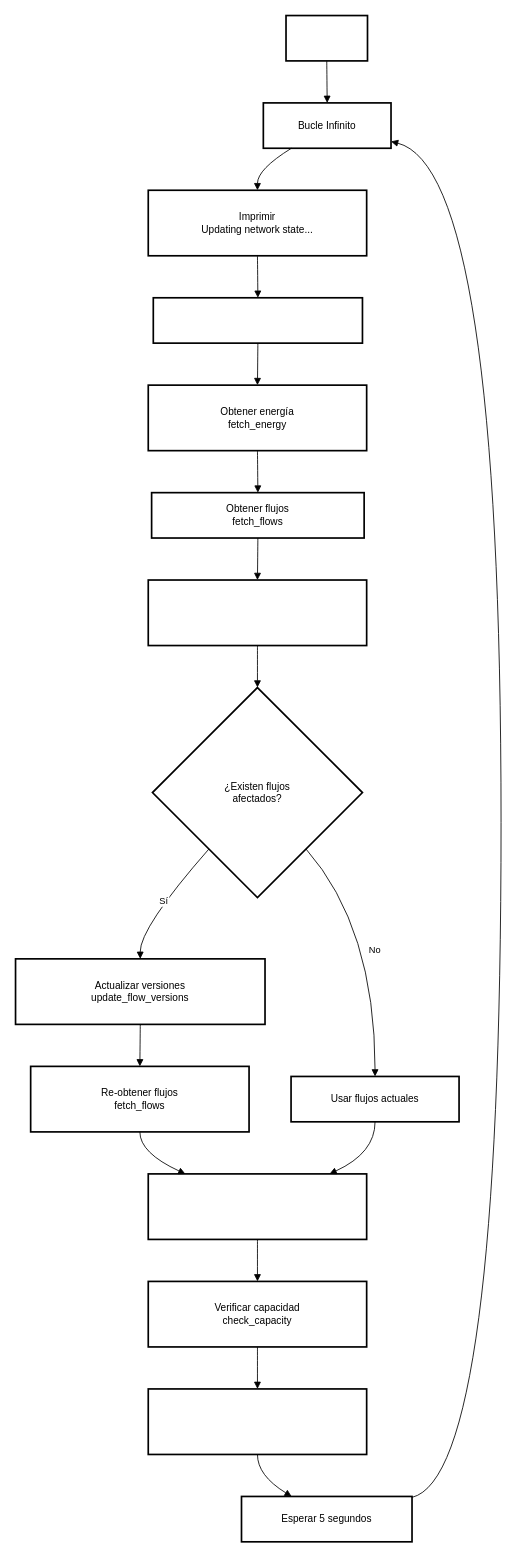
This 516x1557 diagram has some shape labels left out. Each missing label, with the centre of its shape:
"Asignar costos assign_costs" goes at point 257,1206.
"Asignar rutas assign_routes" goes at point 257,1421.
"Crear grafo create_graph" goes at point 257,320.
"Inicio" goes at point 326,37.
"Verificar routers críticos - router_checkup" goes at point 257,612.
